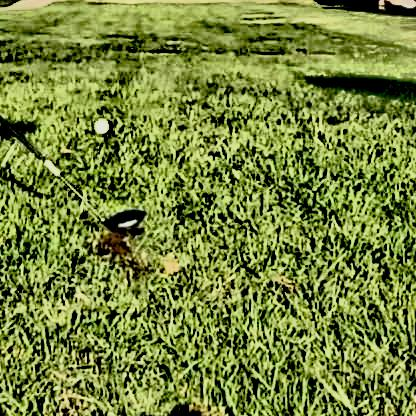golfball: (91, 116, 106, 131)
